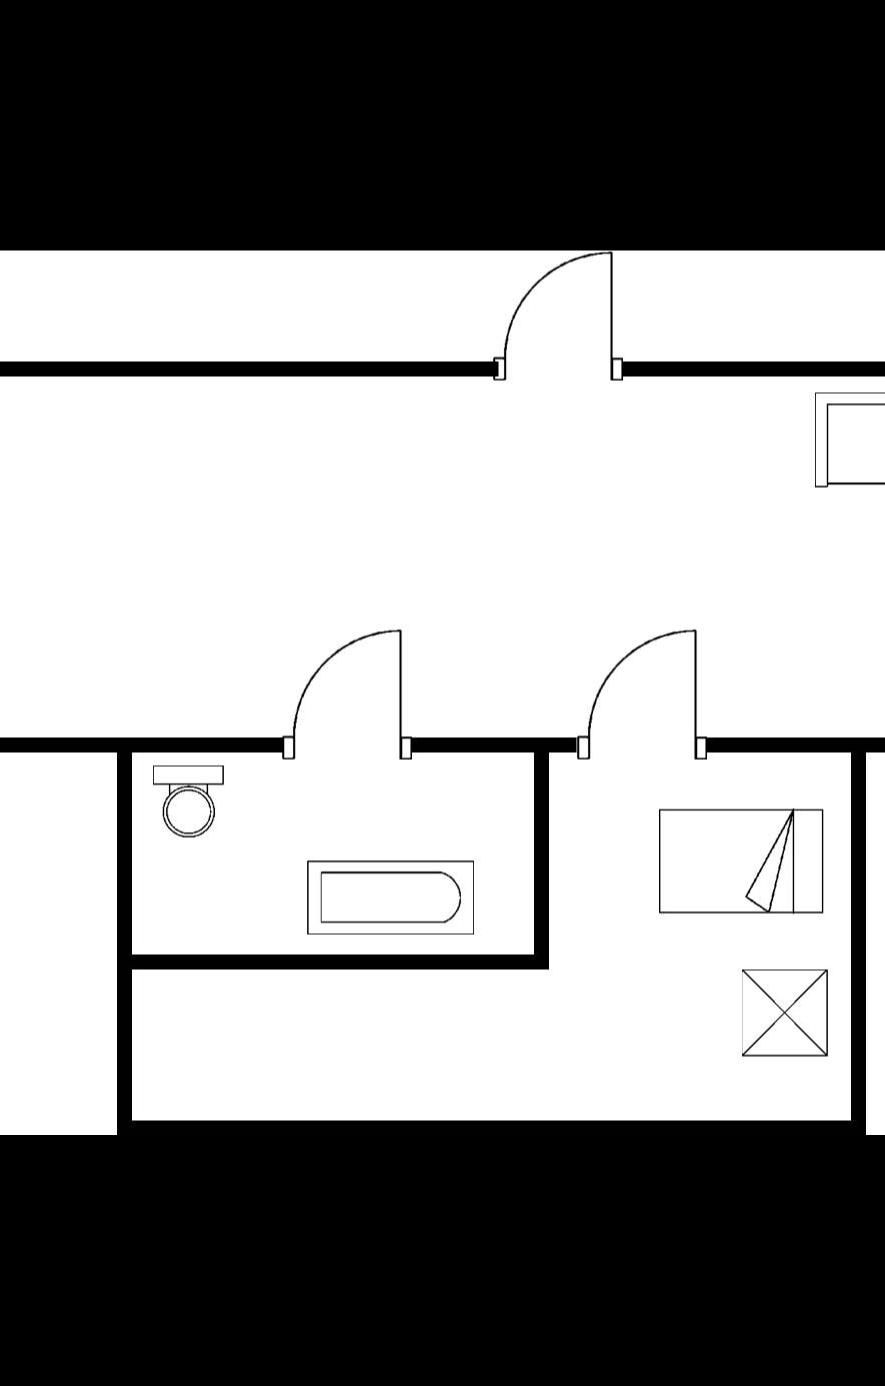bed: (651, 804, 830, 921)
sofa: (806, 387, 885, 498)
toilet: (146, 761, 233, 849)
tub: (295, 846, 481, 951)
